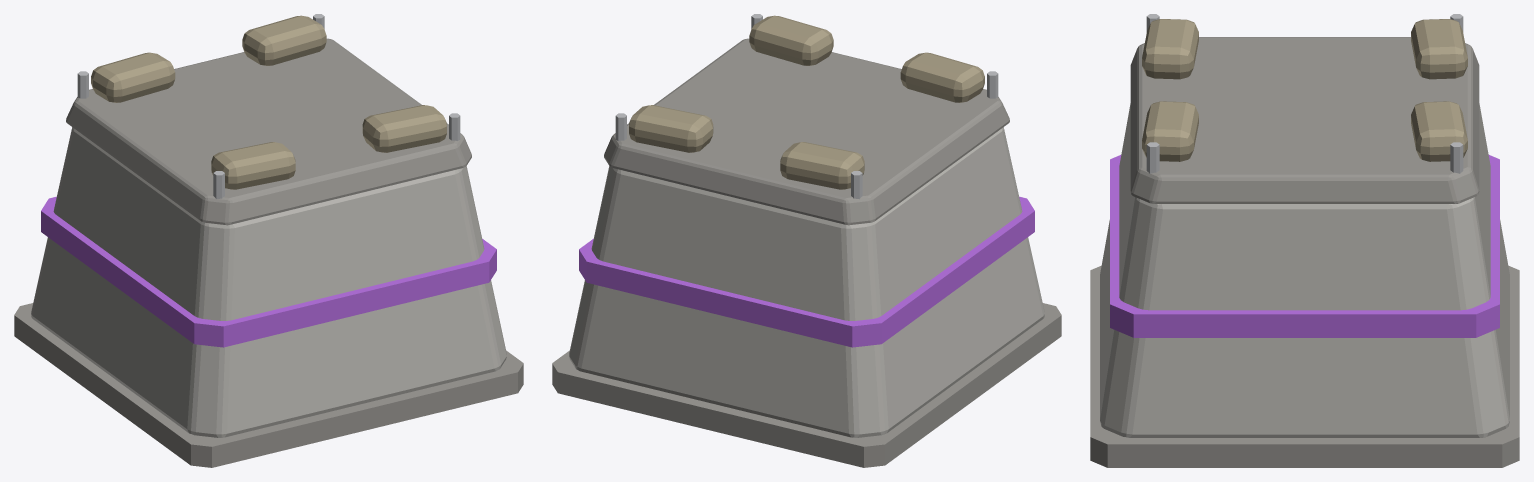
File: wall_purple.glb
3 renders of one model, left to right at view 1: azimuth 30°, elevation 25°; view 2: azimuth 150°, elevation 25°; view 3: azimuth 270°, elevation 25°, orthographic. The views are drawn at different scales.
Visible parts, largest first — view 1: Body; view 2: Body; view 3: Body.
Boxes of the visible parts, left/top/right/bottom form: Body: left=14, top=14, right=523, bottom=467; Body: left=552, top=14, right=1061, bottom=467; Body: left=1090, top=14, right=1519, bottom=467.
Bounding box in the file's own units: 1.98 × 1.54 × 1.98.
